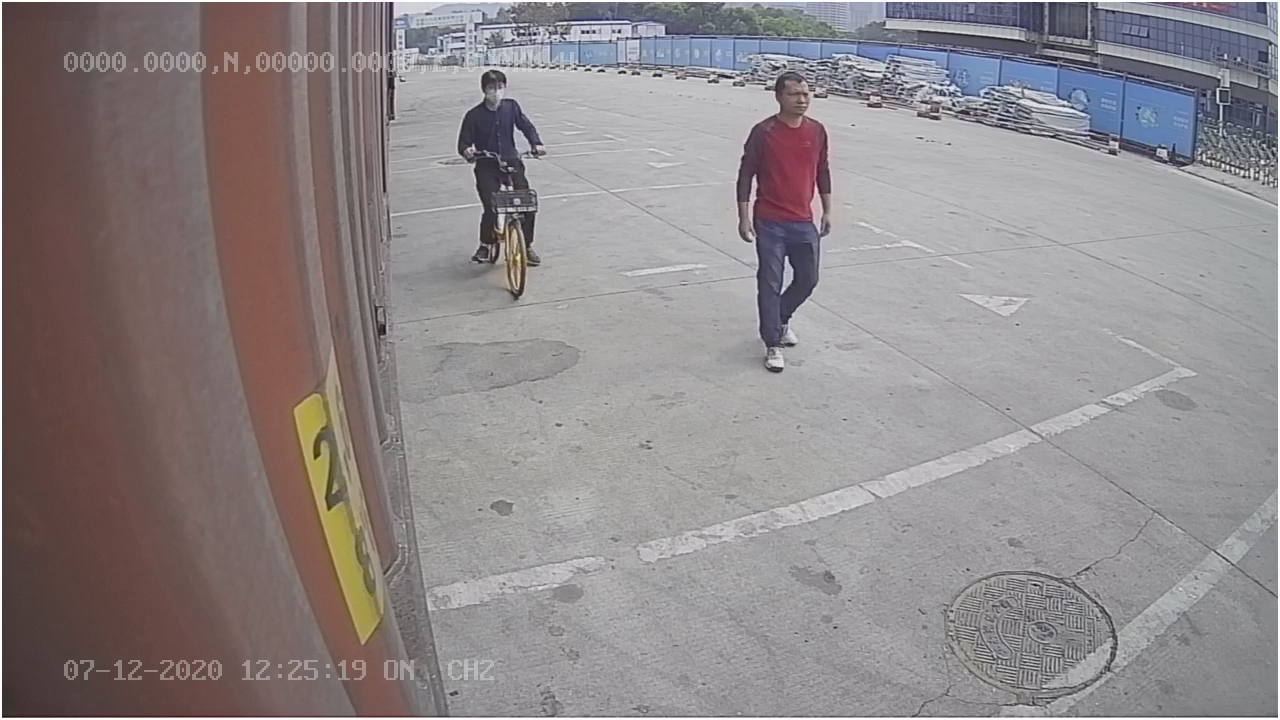person: (731, 64, 840, 382)
